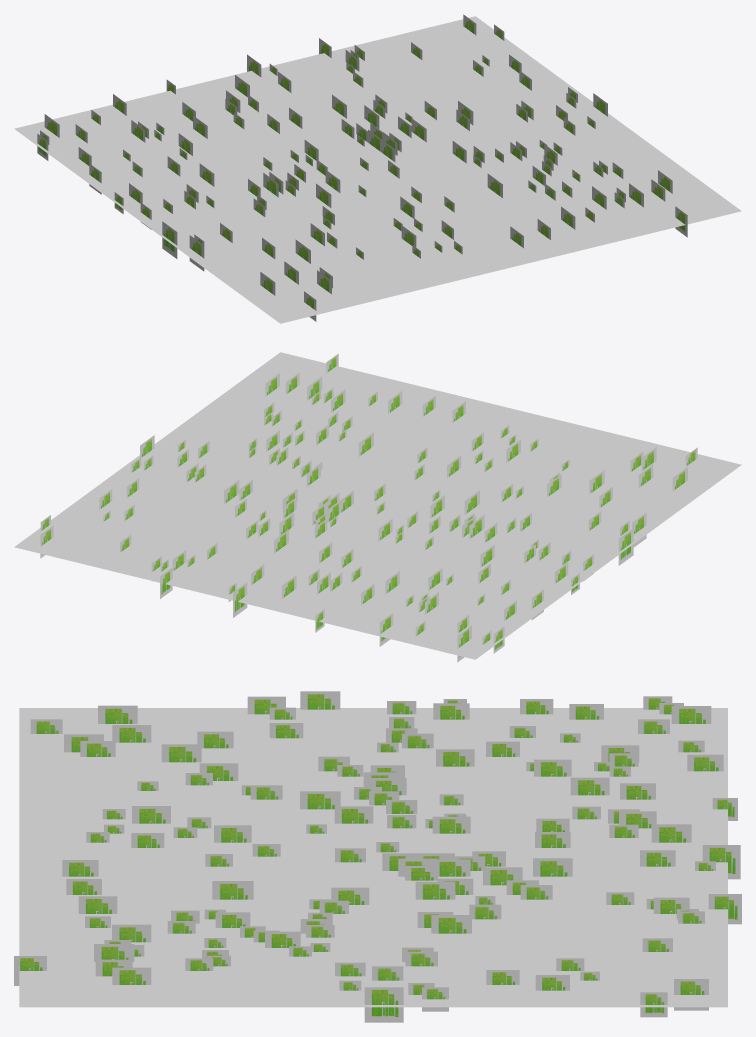
Rendered from GroundV3.fbx.
3 views of the same model, one above another, from view 1: azimuth 30°, elevation 25°; view 2: azimuth 150°, elevation 25°; view 3: azimuth 270°, elevation 25° (orthographic). The views are drawn at different scales.
Visible parts, largest first — view 1: Plane.002; view 2: Plane.002; view 3: Plane.002, Plane.002|Plane.001|Dupli|5, Plane.002|Plane.001|Dupli|2, Plane.002|Plane.001|Dupli|55, Plane.002|Plane.001|Dupli|44, Plane.002|Plane.001|Dupli|85, Plane.002|Plane.001|Dupli|144, Plane.002|Plane.001|Dupli|125, Plane.002|Plane.001|Dupli|58, Plane.002|Plane.001|Dupli|99, Plane.002|Plane.001|Dupli|74, Plane.002|Plane.001|Dupli|138 (+38 smaller).
Part boxes in pixels (x1,y1,x2,y2): Plane.002: (14,16,741,323); Plane.002: (14,352,741,659); Plane.002: (19,708,727,1007); Plane.002|Plane.001|Dupli|5: (364,987,403,1022); Plane.002|Plane.001|Dupli|2: (702,845,740,879); Plane.002|Plane.001|Dupli|55: (212,881,253,899); Plane.002|Plane.001|Dupli|44: (431,915,471,933); Plane.002|Plane.001|Dupli|85: (651,824,691,842); Plane.002|Plane.001|Dupli|144: (300,691,340,709); Plane.002|Plane.001|Dupli|125: (161,744,201,762); Plane.002|Plane.001|Dupli|58: (415,881,455,899); Plane.002|Plane.001|Dupli|99: (300,791,340,809); Plane.002|Plane.001|Dupli|74: (533,858,572,876); Plane.002|Plane.001|Dupli|138: (98,705,137,723).
Bounding box in the file's own units: 6091 × 344 × 5929.
